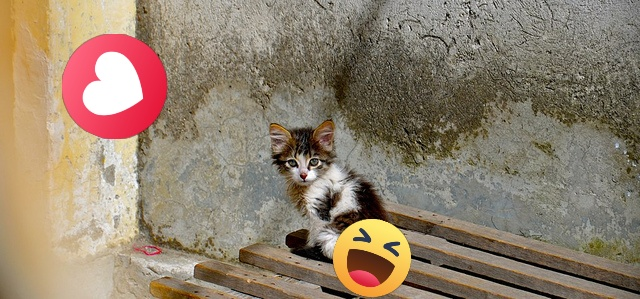haha: (333, 219, 411, 297)
love: (62, 34, 167, 139)
